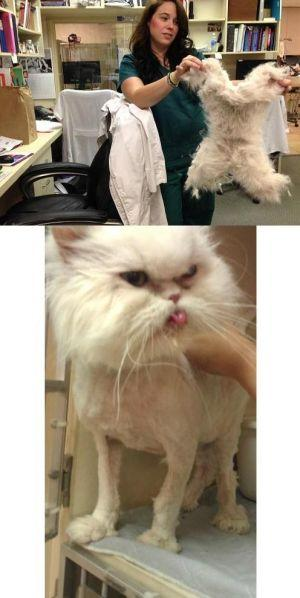persian: (44, 228, 251, 381)
